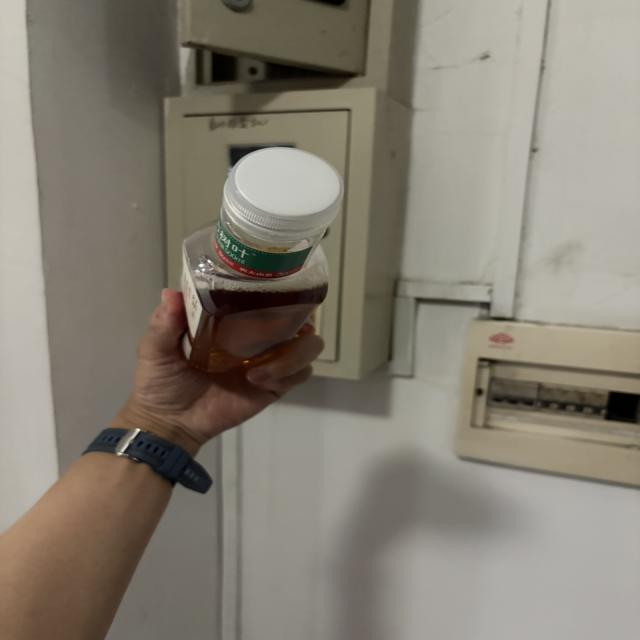high: (182, 147, 343, 372)
